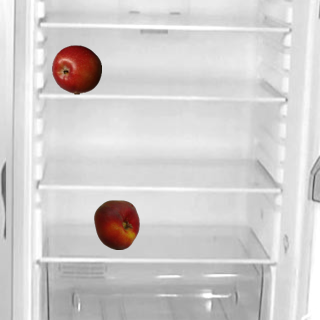Apple Braeburn: (51, 44, 101, 94)
Nectarine Flat: (91, 199, 141, 249)
